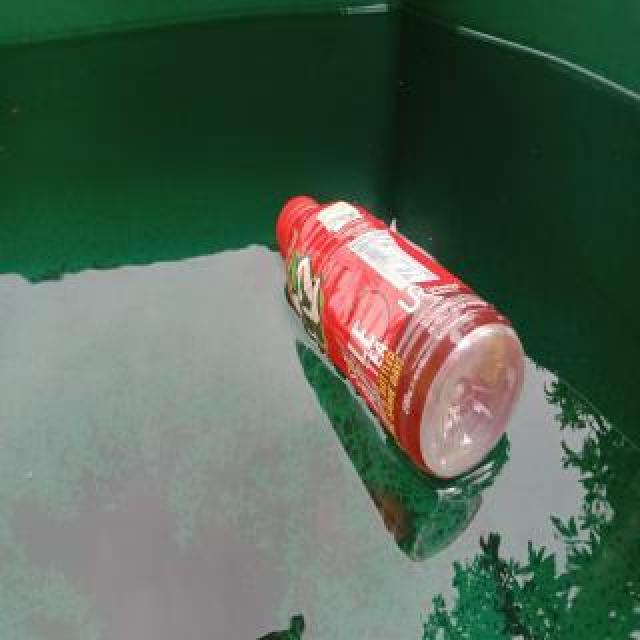bottle: (274, 192, 530, 486)
